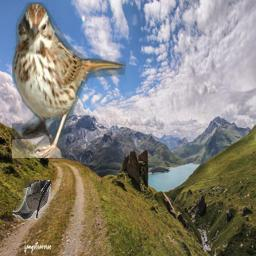Cuckoo: (13, 180, 51, 220)
Sparrow: (12, 2, 126, 158)
